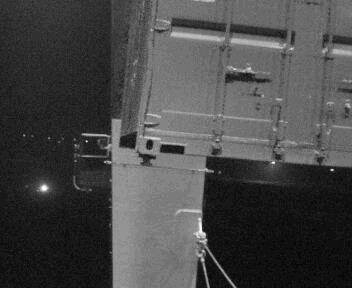twist_lock_1: (134, 151, 159, 172)
